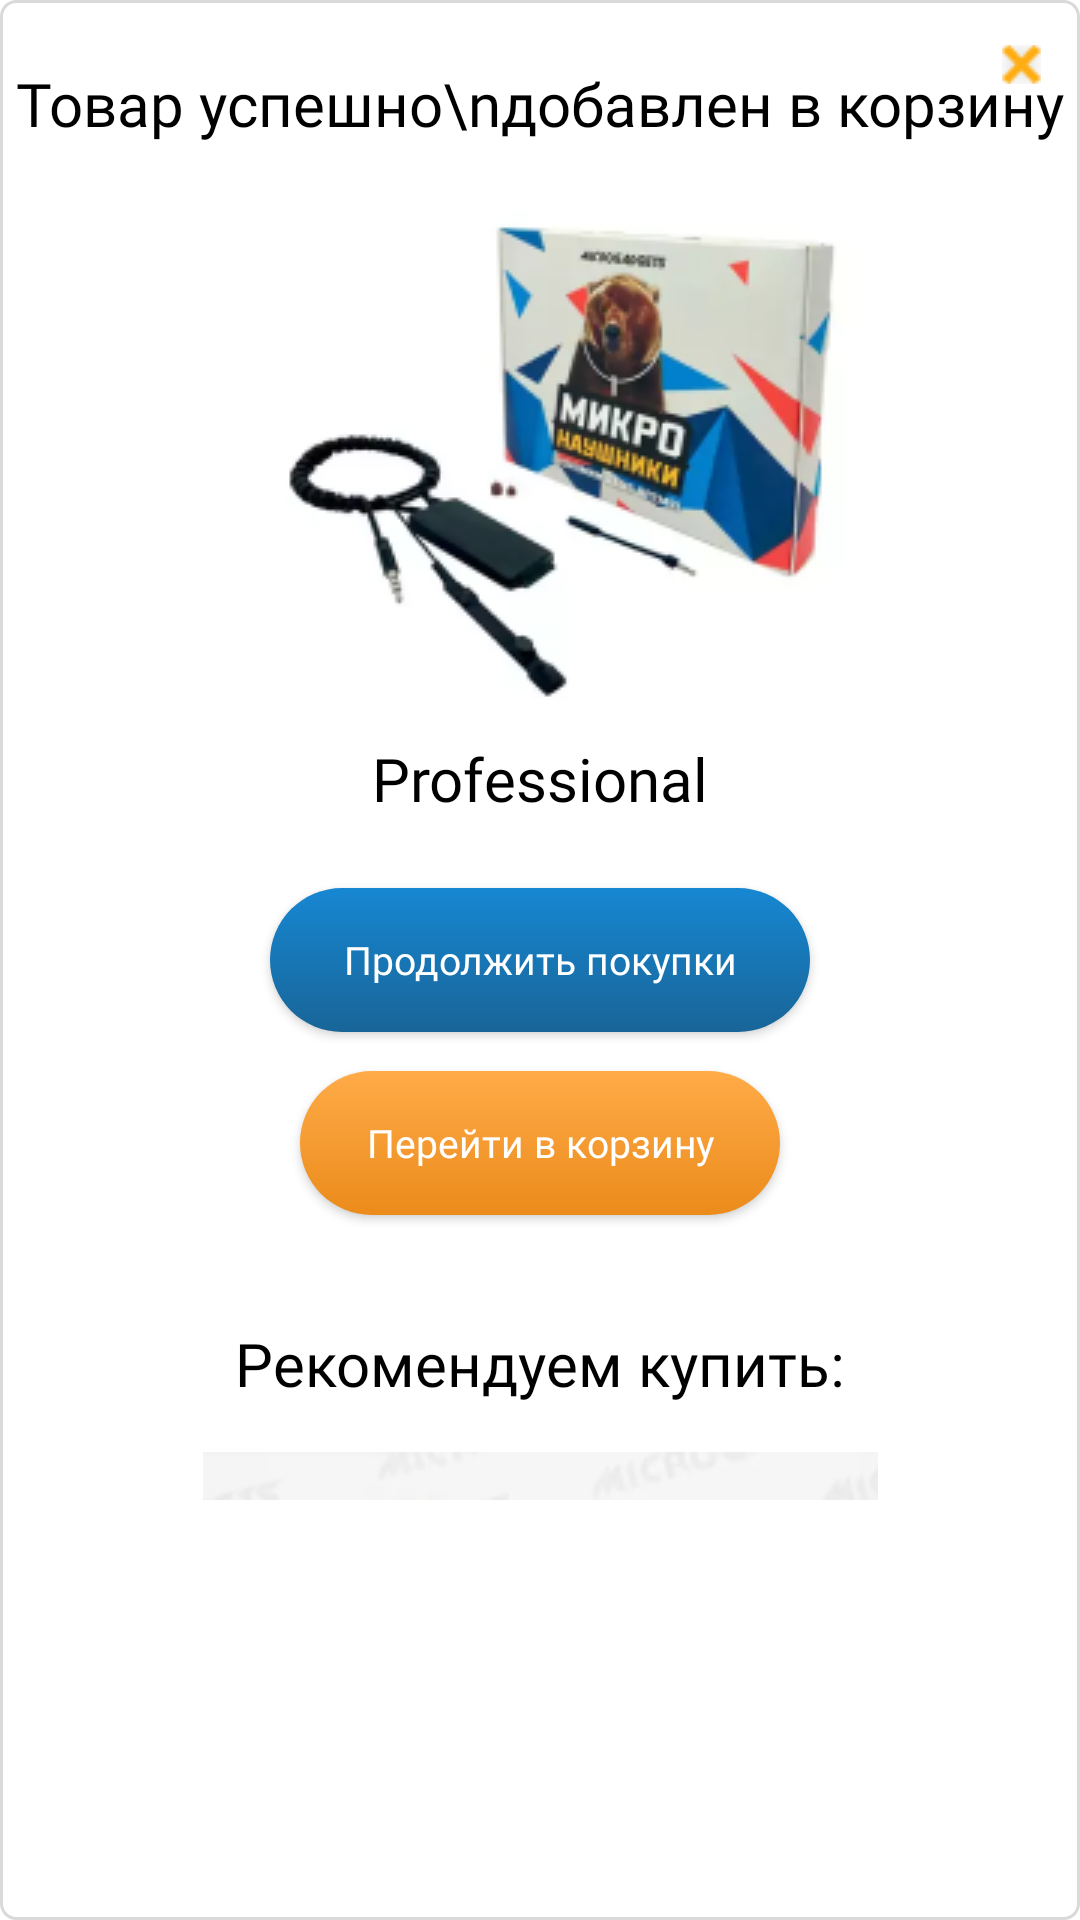

Point at icon controls on the screen. Image size 1080 x 1920, points as (x=x, y=y).
close: (x=1021, y=64)
